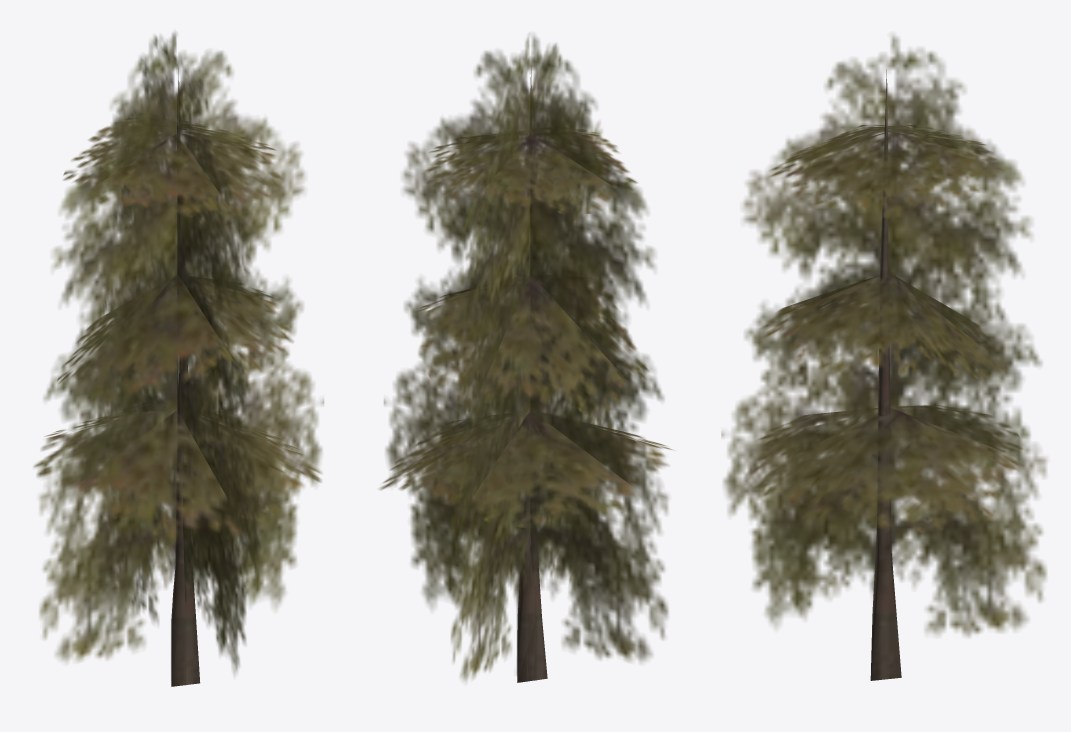
Rendered from distant-tree-05.glb.
The picture shows the model from 3 angles, left to right: view 1: azimuth 30°, elevation 25°; view 2: azimuth 150°, elevation 25°; view 3: azimuth 270°, elevation 25°; orthographic projection.
Parts seen in each view (by area): view 1: Background_Tree_Atlas.004; view 2: Background_Tree_Atlas.004; view 3: Background_Tree_Atlas.004.
Part boxes in pixels (x1,y1,x2,y2): Background_Tree_Atlas.004: (33, 32, 323, 686); Background_Tree_Atlas.004: (379, 35, 672, 682); Background_Tree_Atlas.004: (721, 35, 1046, 680).
Size of the model in its own units: 1140 by 2454 by 1140.
1 material, 1 textured.
